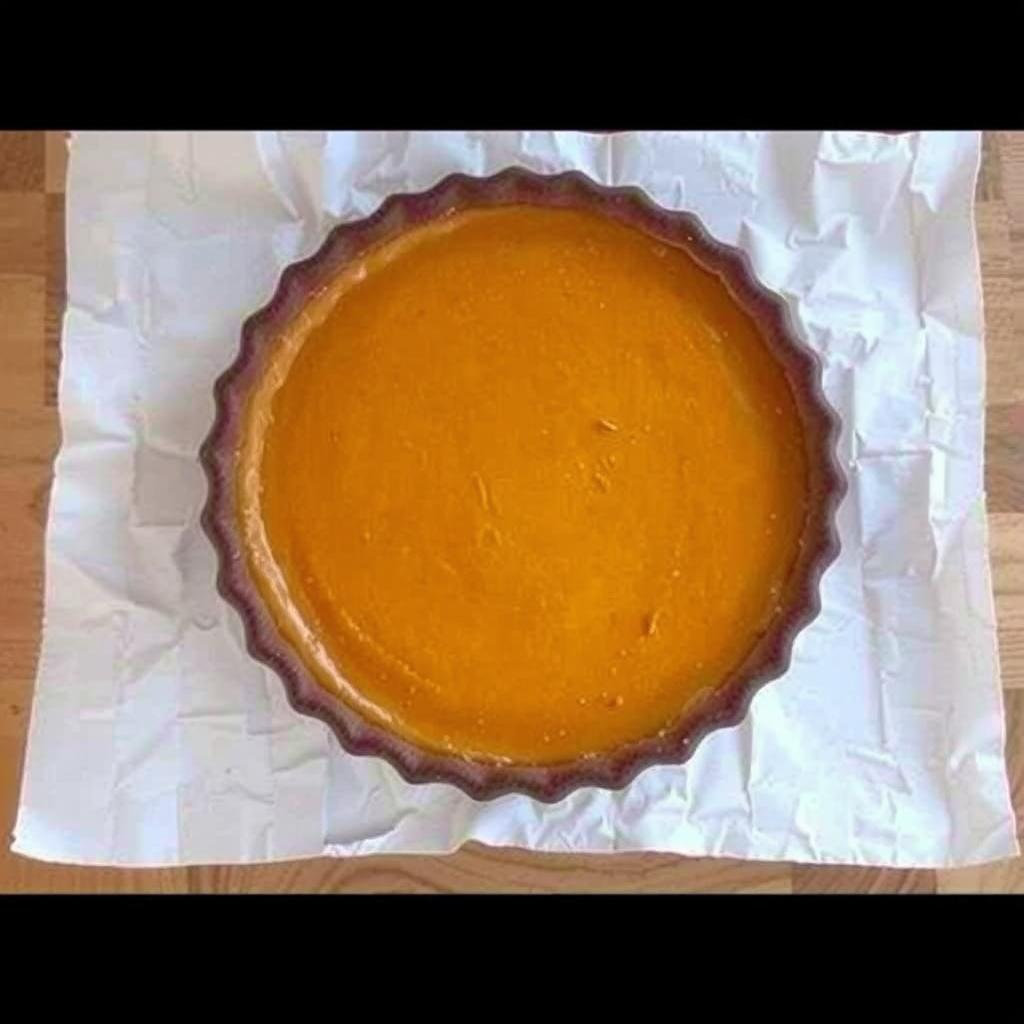pie: (193, 159, 850, 814)
